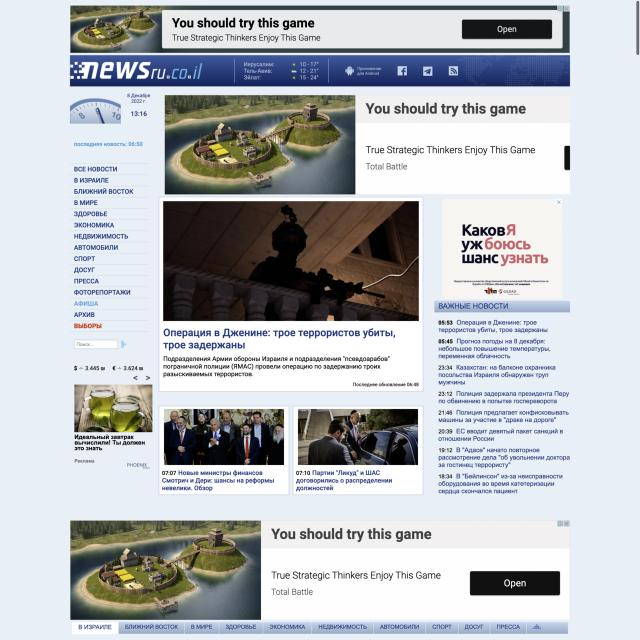input: (73, 339, 119, 350)
logo: (70, 59, 209, 84)
navigation: (72, 161, 152, 336), (131, 374, 152, 381)
